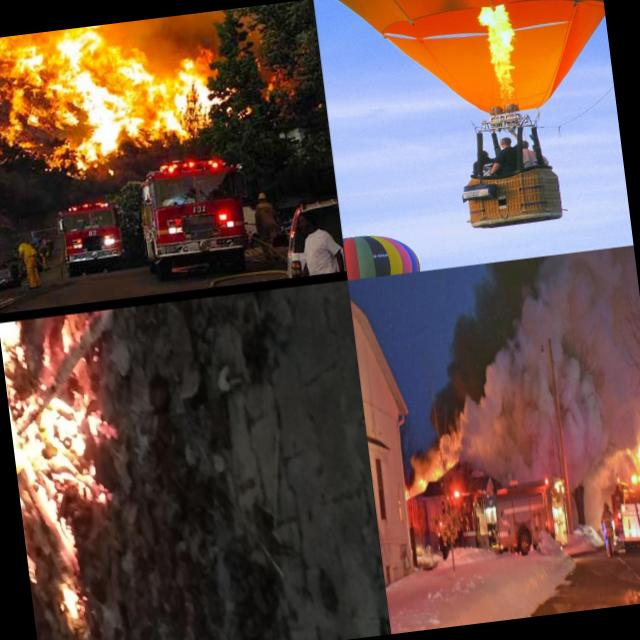fire: (0, 306, 168, 640), (0, 11, 221, 173), (470, 0, 530, 104), (404, 476, 428, 498)
smoke: (406, 254, 636, 476)
